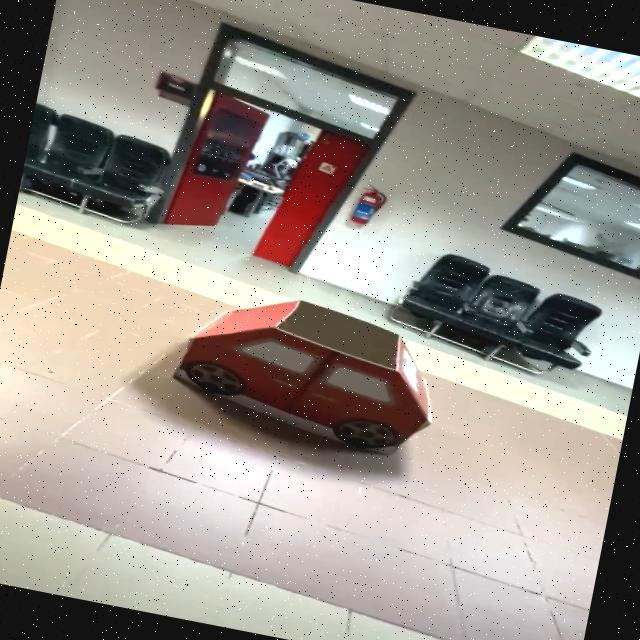red_car: (125, 256, 481, 486)
